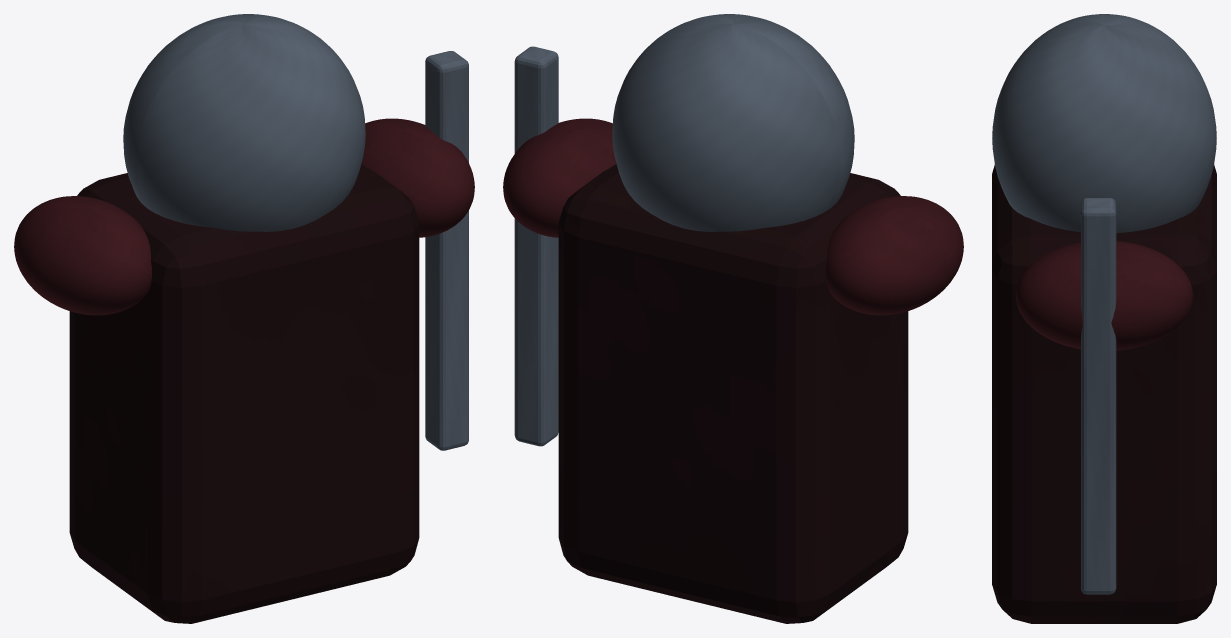
The model's file is monster_Bloody_Knight.glb.
3 renders of one model, left to right at view 1: azimuth 30°, elevation 25°; view 2: azimuth 150°, elevation 25°; view 3: azimuth 270°, elevation 25°, orthographic.
Parts seen in each view (by area): view 1: ArmorBody, Helm, Sword, Shoulder, Shoulder.001; view 2: ArmorBody, Helm, Sword, Shoulder, Shoulder.001; view 3: ArmorBody, Helm, Sword, Shoulder.001.
Part boxes in pixels (box(x1,y1,x2,y2)): ArmorBody: box(69, 164, 419, 623); Helm: box(123, 14, 365, 231); Sword: box(425, 51, 468, 450); Shoulder: box(14, 196, 152, 315); Shoulder.001: box(361, 118, 474, 237); ArmorBody: box(558, 164, 908, 623); Helm: box(612, 14, 854, 231); Sword: box(514, 46, 558, 446); Shoulder: box(825, 196, 963, 315); Shoulder.001: box(503, 118, 616, 237); ArmorBody: box(992, 164, 1216, 623); Helm: box(992, 14, 1216, 233); Sword: box(1081, 198, 1116, 594); Shoulder.001: box(1016, 241, 1192, 350).
Bounding box in the file's own units: 1.68 × 2.04 × 0.76.
3 materials, 3 textured.
